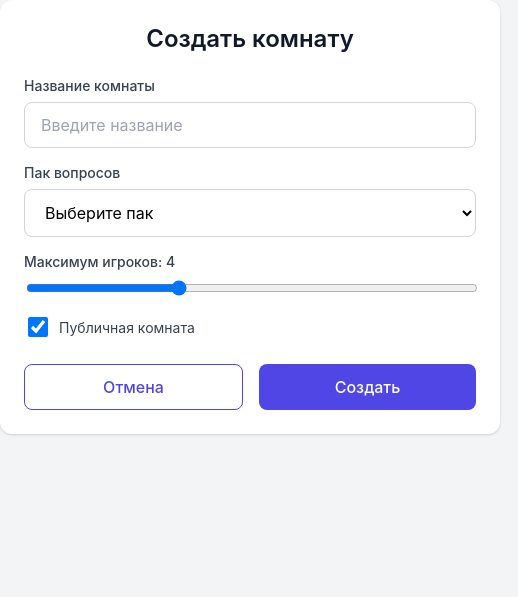
it: CreateRoomForm › показывает ошибку для приватной комнаты без пароля
In the field with placeholder "Введите название": [250, 125] box [24, 102, 476, 148], type "Приватная комната"
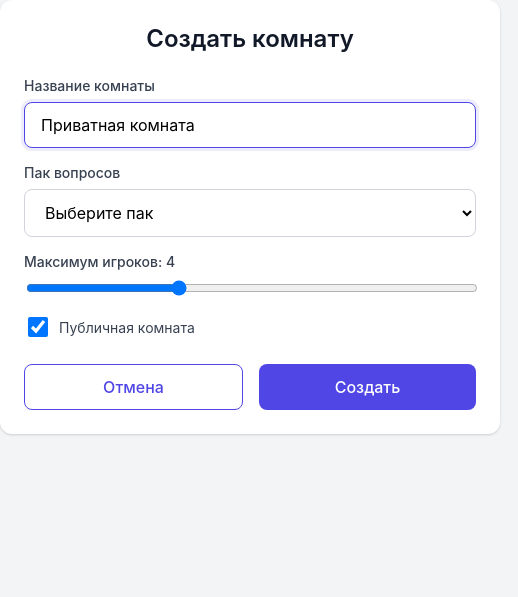
Select "Общие знания (автор: Admin)" in the dropdown: [250, 213] box [24, 189, 476, 237]
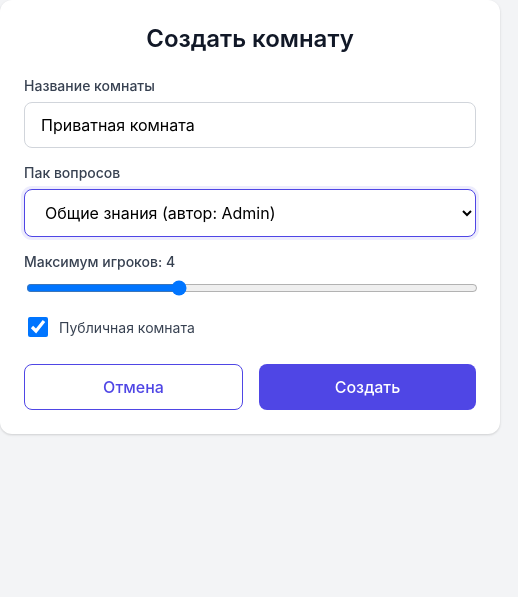
Click the checkbox labelled "Публичная комната": [38, 327] box [28, 317, 48, 337]
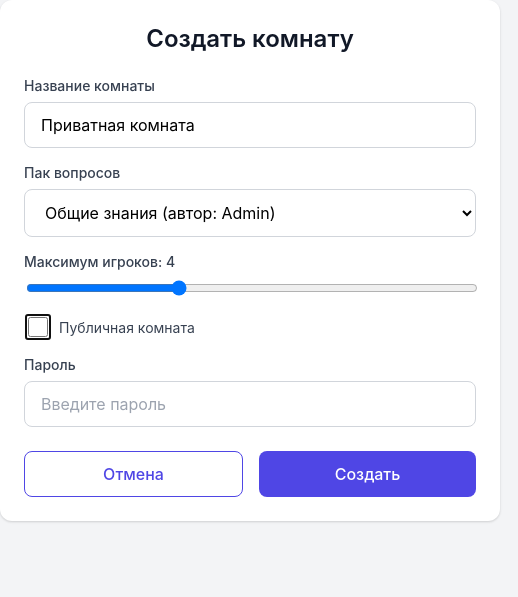
Click the button "Создать": [368, 474] box [259, 451, 476, 497]
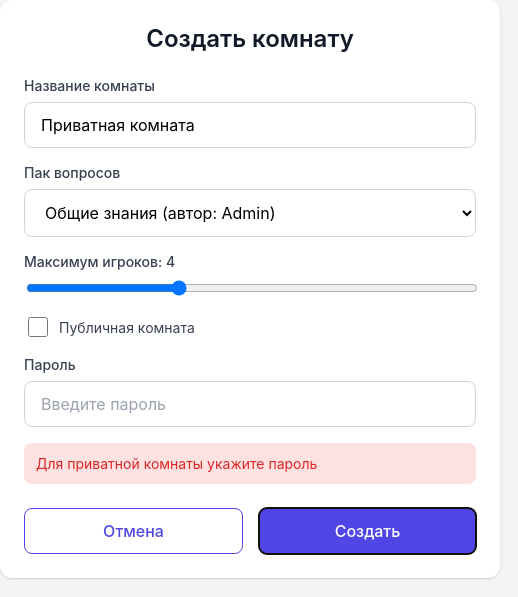
Result: the text "Для приватной комнаты укажите пароль" is shown at [24, 443, 476, 484]
